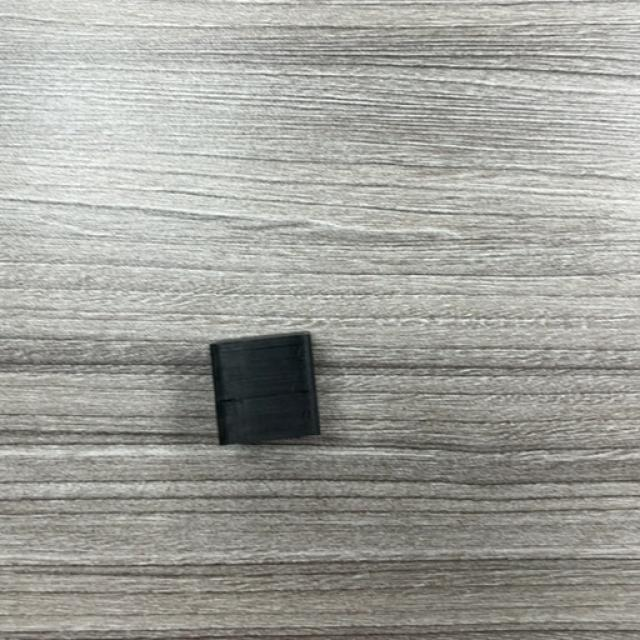Negro: (208, 332, 321, 446)
